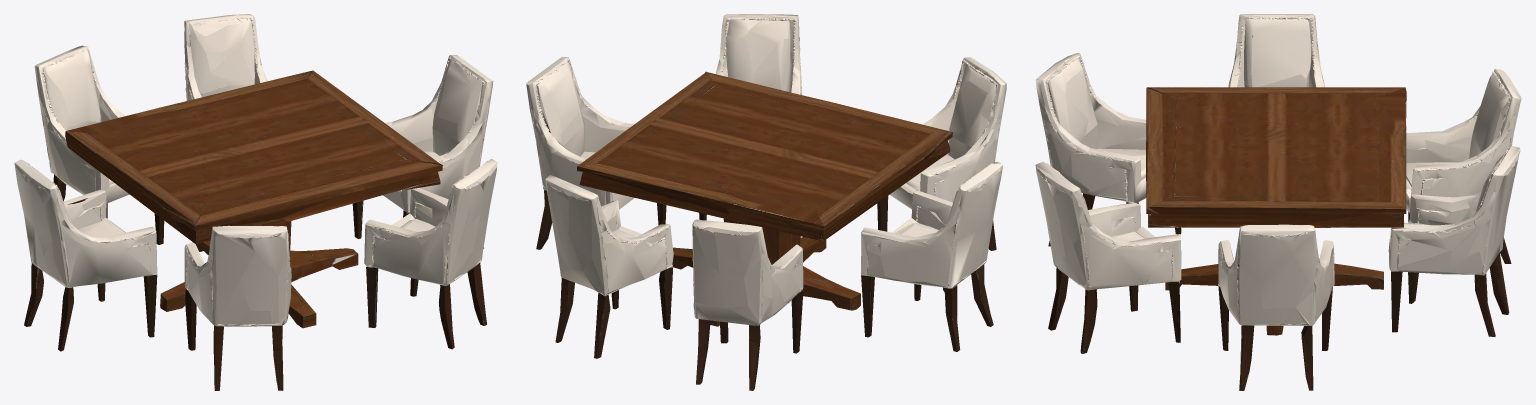
File: dining-set-v1.glb
3 views of the same model, side by side, from view 1: azimuth 30°, elevation 25°; view 2: azimuth 150°, elevation 25°; view 3: azimuth 270°, elevation 25° (orthographic).
Size of the model in its own units: 2.2 by 0.7875 by 2.06.
1 material, 1 textured.
